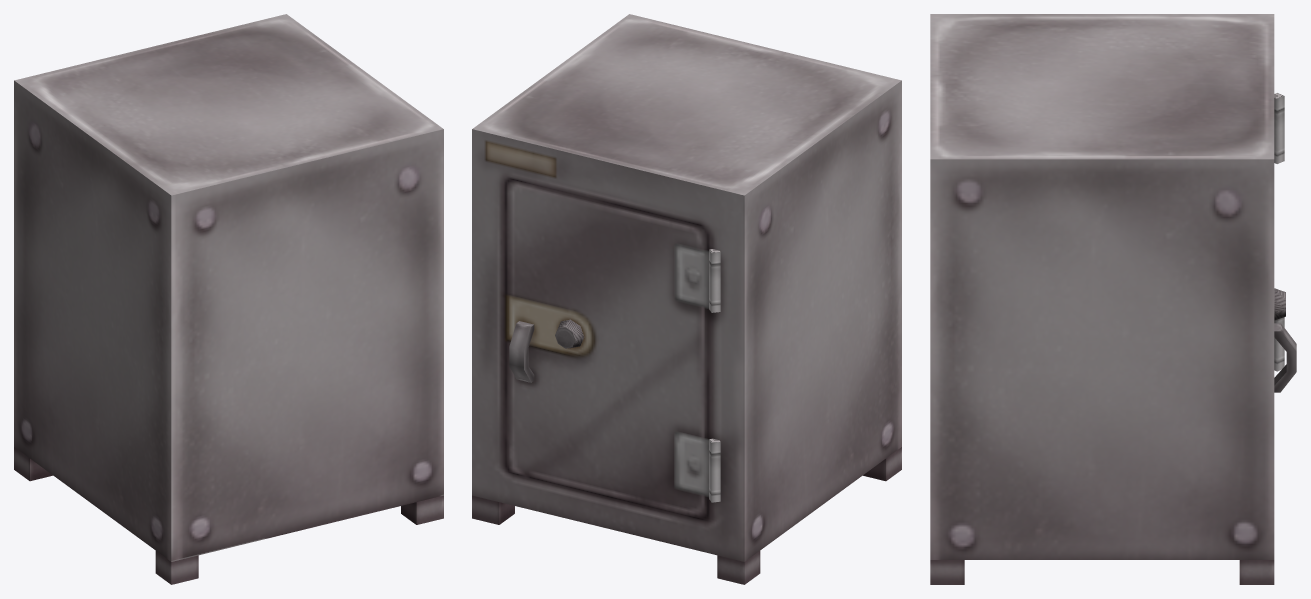
File: a_SWGusafe01.glb
3 renders of one model, left to right at view 1: azimuth 30°, elevation 25°; view 2: azimuth 150°, elevation 25°; view 3: azimuth 270°, elevation 25°, orthographic. The views are drawn at different scales.
Visible parts, largest first — view 1: a_SWGusafe01; view 2: a_SWGusafe01; view 3: a_SWGusafe01.
Part boxes in pixels (x1=…): a_SWGusafe01: x1=14, y1=14, x2=443, y2=584; a_SWGusafe01: x1=472, y1=14, x2=901, y2=584; a_SWGusafe01: x1=930, y1=14, x2=1296, y2=584.
Bounding box in the file's own units: 0.8 × 1.09 × 0.8522.
Materials: 1 (1 with a texture image).
